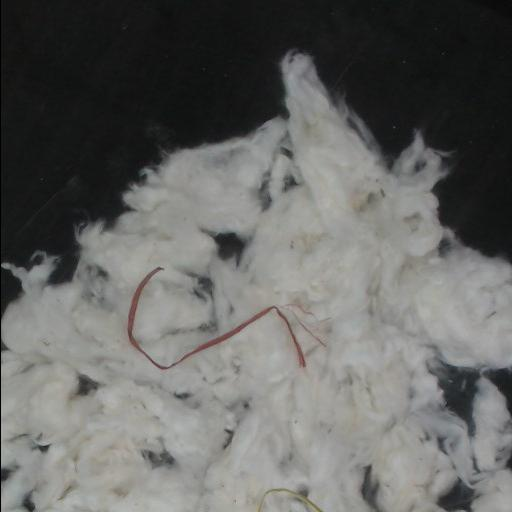conveyor belt: (1, 0, 512, 282), (439, 367, 477, 427), (487, 370, 512, 413), (213, 233, 246, 263), (440, 484, 472, 509)
cotton: (1, 51, 512, 511)
thread: (127, 267, 328, 370), (258, 488, 323, 511)
